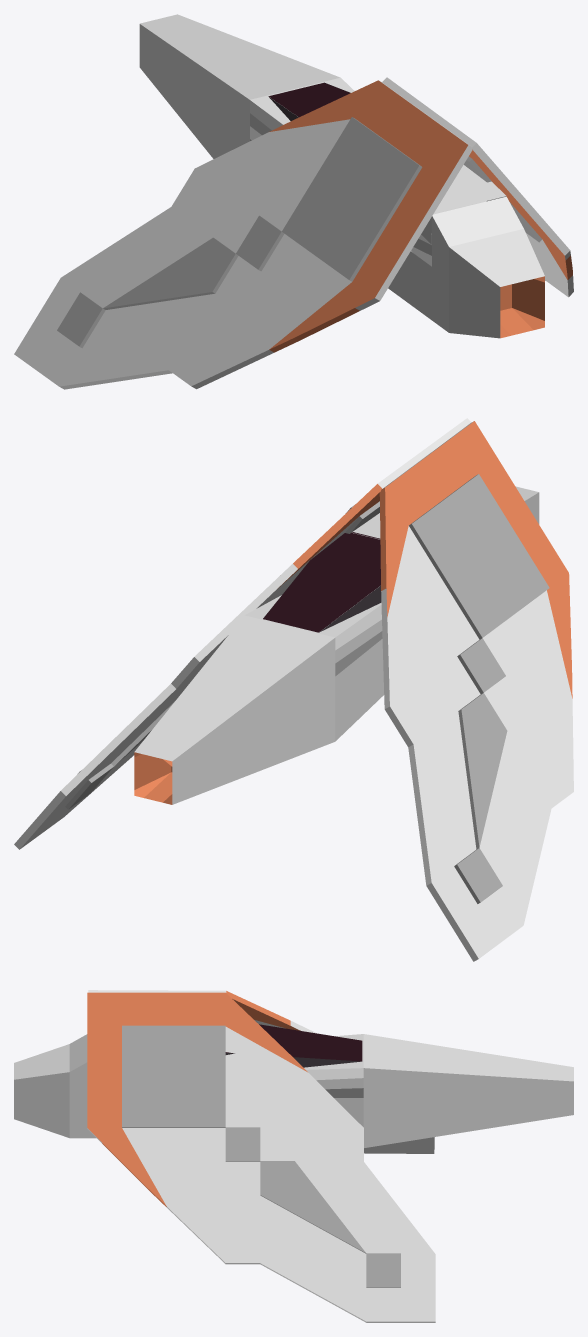
The model's file is sword defender.fbx.
3 views of the same model, one above another, from view 1: azimuth 30°, elevation 25°; view 2: azimuth 150°, elevation 25°; view 3: azimuth 270°, elevation 25° (orthographic). The views are drawn at different scales.
Parts seen in each view (by area): view 1: Cube.001, Cube.013, Cube.003, Cube.004, Cube.002, Cube.014, Cube.016, Cube.007, Cube.006; view 2: Cube.001, Cube.013, Cube.003, Cube.004, Cube.016, Cube.002, Cube.015, Cube.006, Cube.007; view 3: Cube.002, Cube.013, Cube.006, Cube.007, Cube.016, Cube.001, Cube.004.
Part boxes in pixels (left/top/right/bottom): Cube.001: left=14, top=81, right=472, bottom=389; Cube.013: left=139, top=14, right=544, bottom=338; Cube.003: left=57, top=117, right=422, bottom=348; Cube.004: left=269, top=80, right=467, bottom=352; Cube.002: left=382, top=77, right=573, bottom=297; Cube.014: left=500, top=276, right=544, bottom=338; Cube.016: left=269, top=83, right=350, bottom=117; Cube.007: left=469, top=149, right=572, bottom=279; Cube.006: left=464, top=156, right=542, bottom=242; Cube.001: left=381, top=421, right=573, bottom=961; Cube.013: left=134, top=486, right=539, bottom=804; Cube.003: left=409, top=474, right=549, bottom=903; Cube.004: left=379, top=421, right=572, bottom=698; Cube.016: left=263, top=532, right=380, bottom=632; Cube.002: left=14, top=418, right=471, bottom=849; Cube.015: left=134, top=752, right=172, bottom=804; Cube.006: left=65, top=501, right=379, bottom=809; Cube.007: left=277, top=484, right=381, bottom=588; Cube.002: left=87, top=1027, right=435, bottom=1322; Cube.013: left=14, top=1034, right=573, bottom=1147; Cube.006: left=122, top=1025, right=400, bottom=1287; Cube.007: left=87, top=992, right=307, bottom=1206; Cube.016: left=225, top=1024, right=362, bottom=1061; Cube.001: left=88, top=990, right=434, bottom=1153; Cube.004: left=226, top=991, right=300, bottom=1030.
Size of the model in its own units: 299 by 198 by 405.
